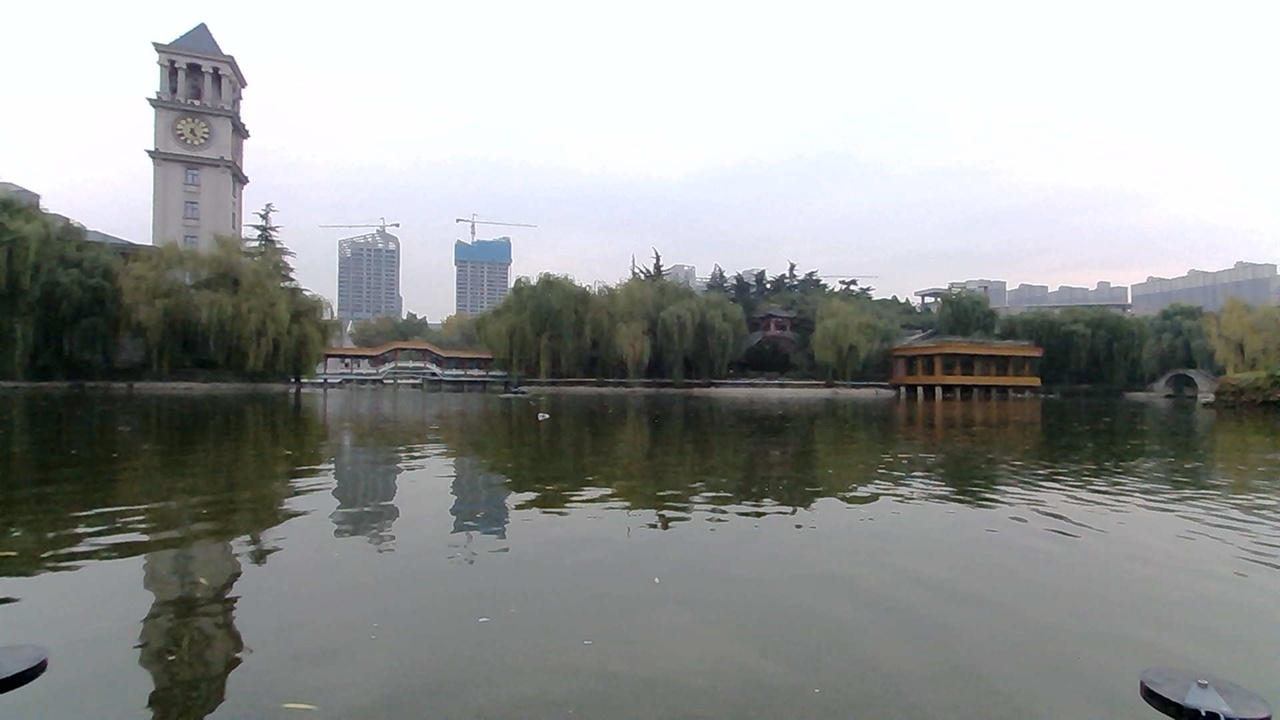bottle: (529, 401, 574, 425)
